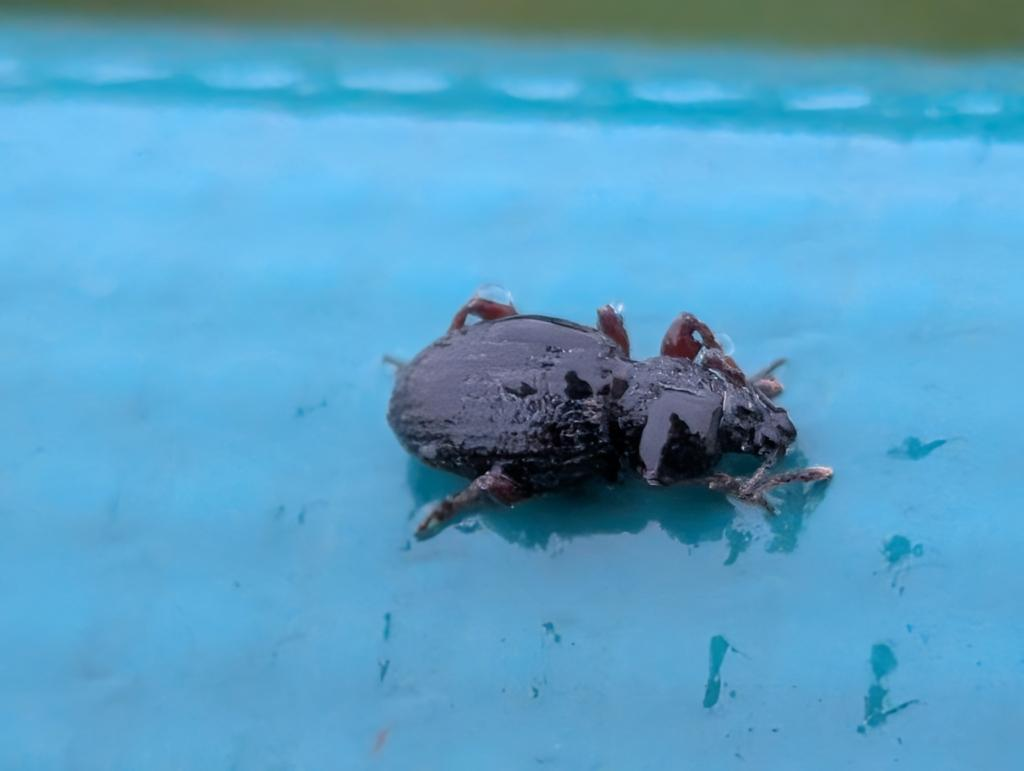weevils: (344, 256, 854, 582)
